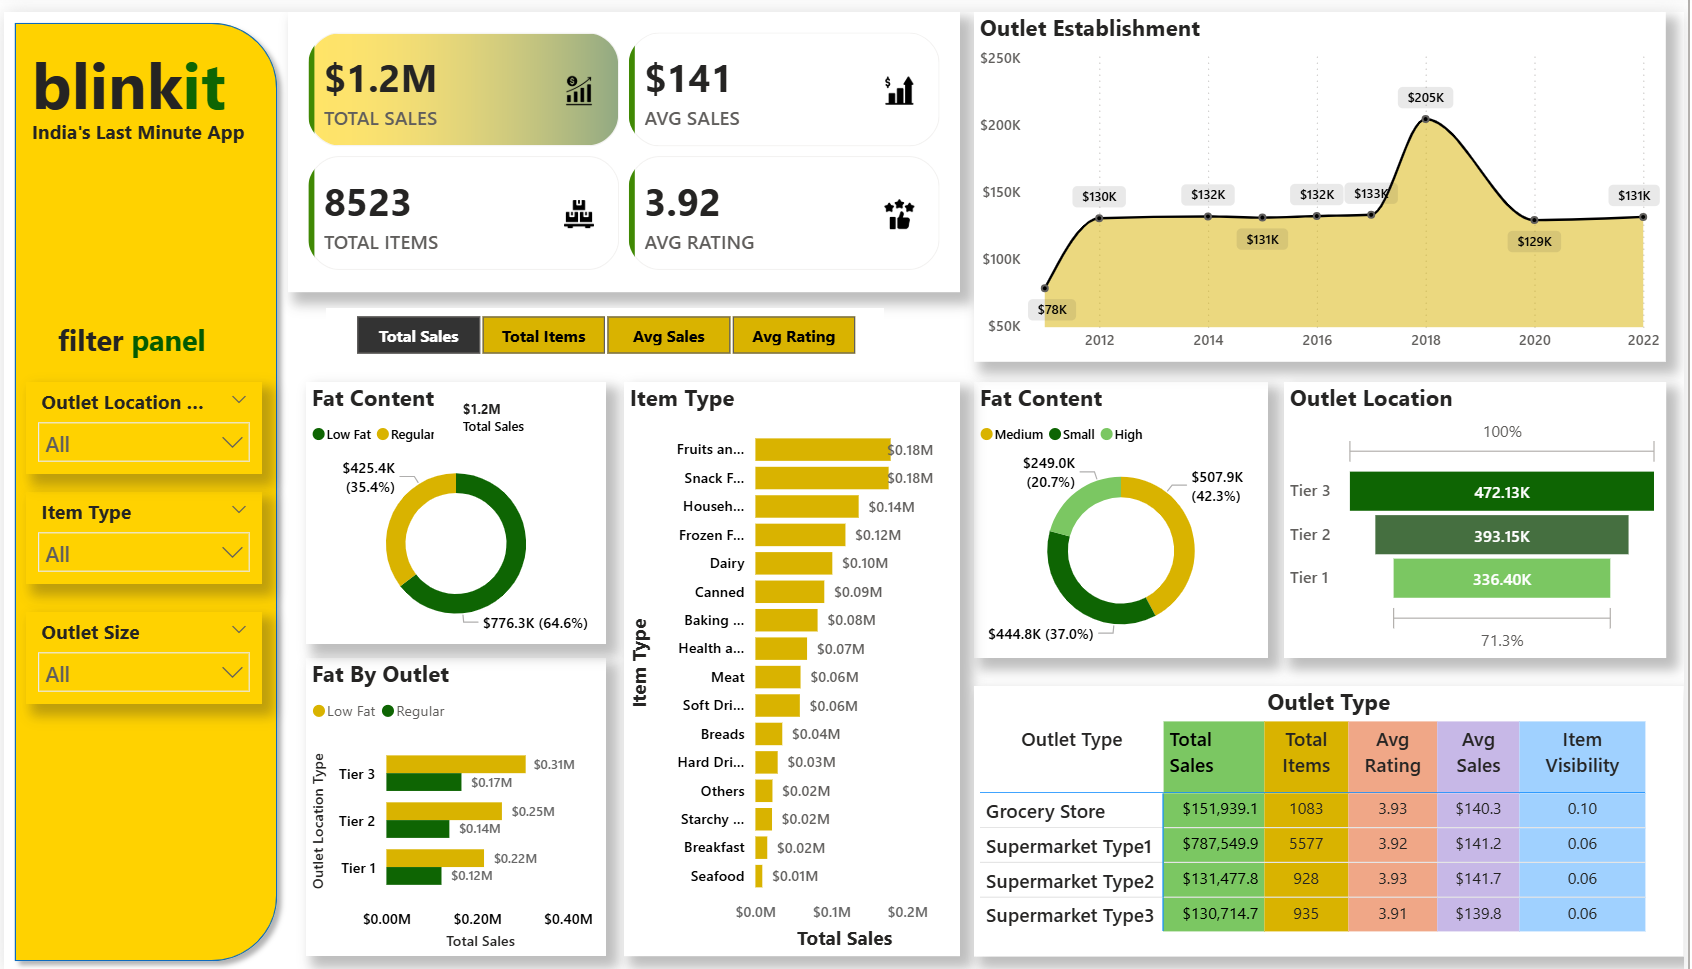

This screenshot's page, from the dashboard's own definition file:
{"tool":"powerbi","page":{"name":"Page 1","canvas":[1400,800],"ordinal":0},"visuals":[{"type":"shape","box":[0,0,236.7,800],"z":0},{"type":"textbox","box":[18.4,83.7,218.4,36.7],"z":1000},{"type":"textbox","box":[18.3,18.3,196.7,83.3],"z":2000},{"type":"cardVisual","fields":{"Data":["Merge1.Total Sales","Merge1.Avg Sales","Merge1.Total Items","Merge1.Avg. Rating"]},"box":[236.7,0,560,233.3],"z":3000},{"type":"donutChart","title":"Fat Content","fields":{"Y":["Merge1.Total Sales"],"Category":["Merge1.Item Fat Content"]},"box":[251.7,308.3,250,218.3],"z":4000},{"type":"slicer","fields":{"Values":["Metrics.Metrics"]},"box":[268.3,246.7,465,45],"z":5000},{"type":"cardVisual","fields":{"Data":["Merge1.Total Sales"]},"box":[352.5,308.5,127.1,59.3],"z":6000},{"type":"clusteredBarChart","title":"Fat By Outlet","fields":{"Y":["Merge1.Total Sales"],"Category":["Merge1.Outlet Location Type"],"Series":["Merge1.Item Fat Content"]},"box":[251.7,538.3,250,248.3],"z":7000},{"type":"barChart","title":" Item Type","fields":{"Y":["Merge1.Total Sales"],"Category":["Merge1.Item Type"]},"box":[516.7,308.3,280,478.3],"z":8000},{"type":"lineChart","title":"Outlet Establishment","fields":{"Y":["Merge1.Total Sales"],"Category":["Merge1.Outlet Establishment Year"]},"box":[808.3,0,576.7,291.7],"z":9000},{"type":"donutChart","title":"Fat Content","fields":{"Y":["Merge1.Total Sales"],"Category":["Merge1.Outlet Size"]},"box":[808.3,308.3,245,230],"z":10000},{"type":"funnel","title":"Outlet Location ","fields":{"Category":["Merge1.Outlet Location Type"],"Y":["Sum(Merge1.Sales)"]},"box":[1066.7,308.3,318.3,230],"z":11000},{"type":"pivotTable","title":"Outlet Type","fields":{"Values":["Merge1.Total Sales","Merge1.Total Items","Merge1.Avg Rating","Merge1.Avg Sales","Avg(Merge1.Item Visibility)"],"Rows":["Merge1.Outlet Type"]},"box":[808.5,561,591.5,225.4],"z":12000},{"type":"slicer","fields":{"Values":["Merge1.Outlet Location Type"]},"box":[18.6,308.5,196.6,76.3],"z":13000},{"type":"slicer","fields":{"Values":["Merge1.Item Type"]},"box":[18.6,400,196.6,76.3],"z":14000},{"type":"slicer","fields":{"Values":["Merge1.Outlet Size"]},"box":[18.6,500,196.6,76.3],"z":15000},{"type":"textbox","box":[40.7,250.8,157.6,42.4],"z":16000}]}

Visuals, with their boxes in screenshot pixels (x1, y1, x2, y2), scaled from the page's 1400x800 canvas onto the 1692x969 screenshot:
shape: detection(0, 0, 286, 968)
textbox: detection(22, 101, 286, 146)
textbox: detection(22, 22, 260, 123)
cardVisual - Merge1.Total Sales x Merge1.Avg Sales: detection(286, 0, 963, 283)
"Fat Content" donutChart: detection(304, 373, 606, 638)
slicer - Metrics.Metrics: detection(324, 299, 886, 353)
cardVisual - Merge1.Total Sales: detection(426, 374, 580, 445)
"Fat By Outlet" clusteredBarChart: detection(304, 652, 606, 953)
" Item Type" barChart: detection(624, 373, 963, 953)
"Outlet Establishment" lineChart: detection(977, 0, 1674, 353)
"Fat Content" donutChart: detection(977, 373, 1273, 652)
"Outlet Location " funnel: detection(1289, 373, 1674, 652)
"Outlet Type" pivotTable: detection(977, 680, 1691, 953)
slicer - Merge1.Outlet Location Type: detection(22, 374, 260, 466)
slicer - Merge1.Item Type: detection(22, 484, 260, 577)
slicer - Merge1.Outlet Size: detection(22, 606, 260, 698)
textbox: detection(49, 304, 240, 355)
